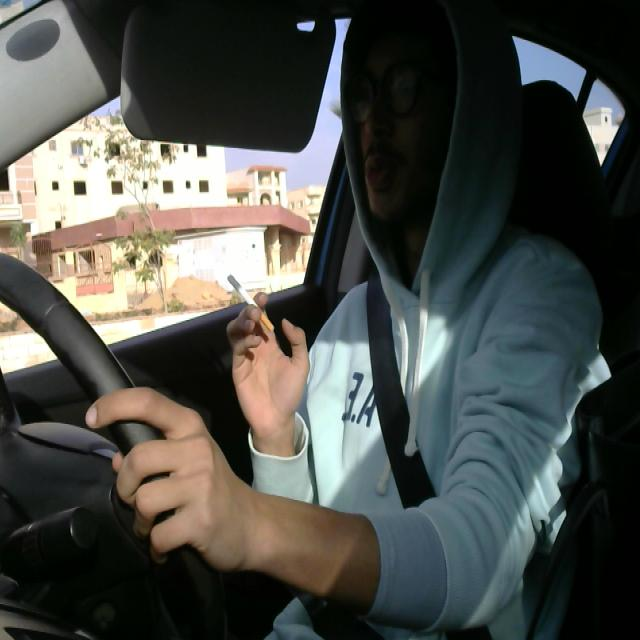smoking: (221, 263, 279, 339)
